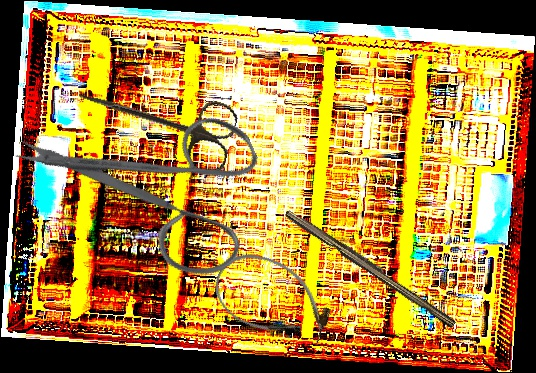Cannula: (203, 239, 343, 359)
Iris Scissors: (7, 51, 295, 331), (68, 64, 241, 177)
Scalpel Handle: (282, 206, 460, 329)
